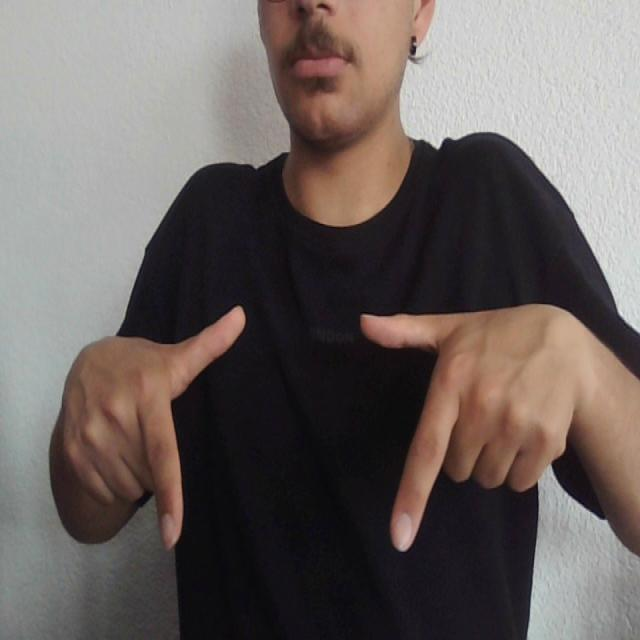Nerede: (136, 297, 480, 565)
